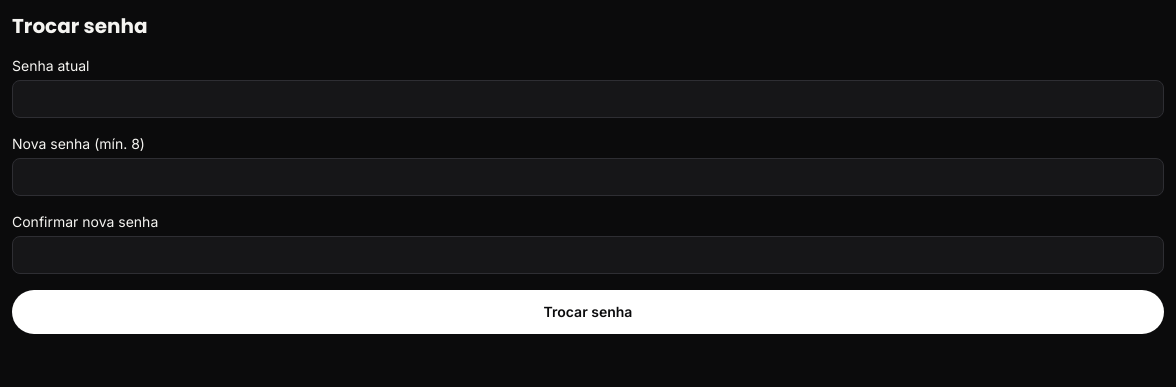
ChangePasswordForm › sucesso mostra confirmação
The image size is (1176, 387).
Type "senha12345" into the password field labelled "Senha atual" at (588, 99), box [12, 80, 1164, 118]
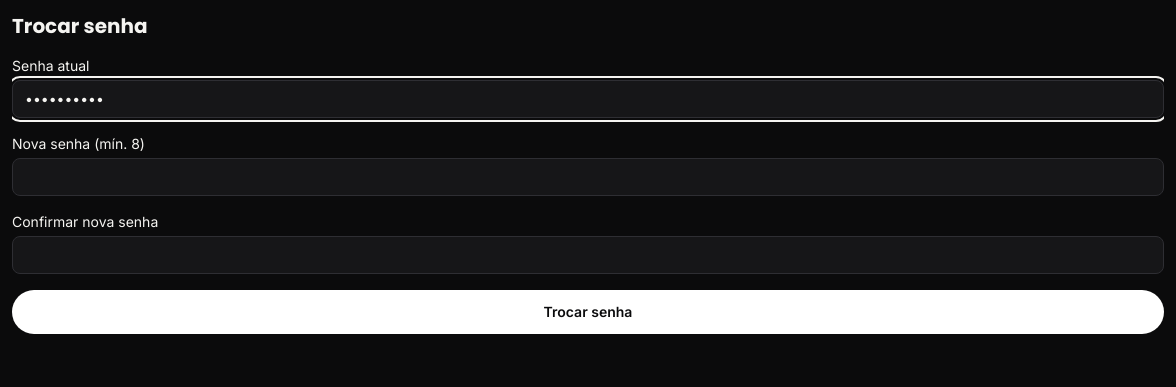
Type "nova-senha-456" into the password field labelled "Nova senha (mín. 8)" at (588, 177), box [12, 158, 1164, 196]
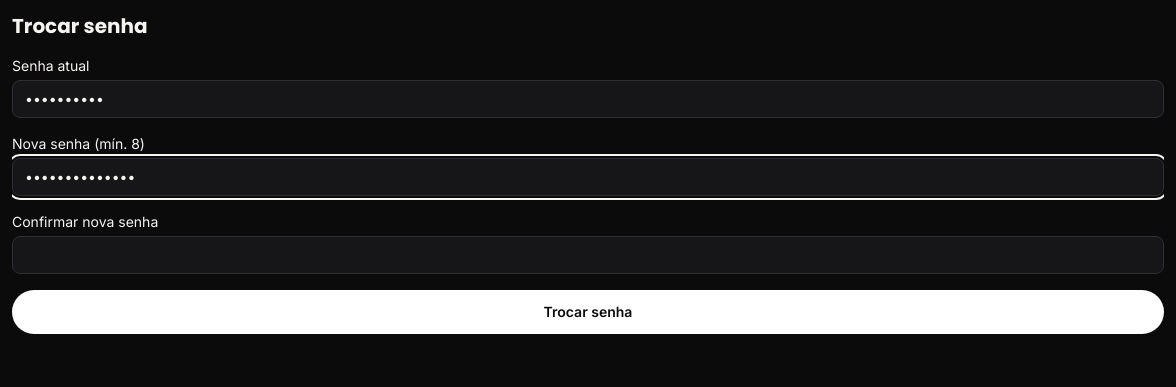
Type "nova-senha-456" into the password field labelled "Confirmar nova senha" at (588, 255), box [12, 236, 1164, 274]
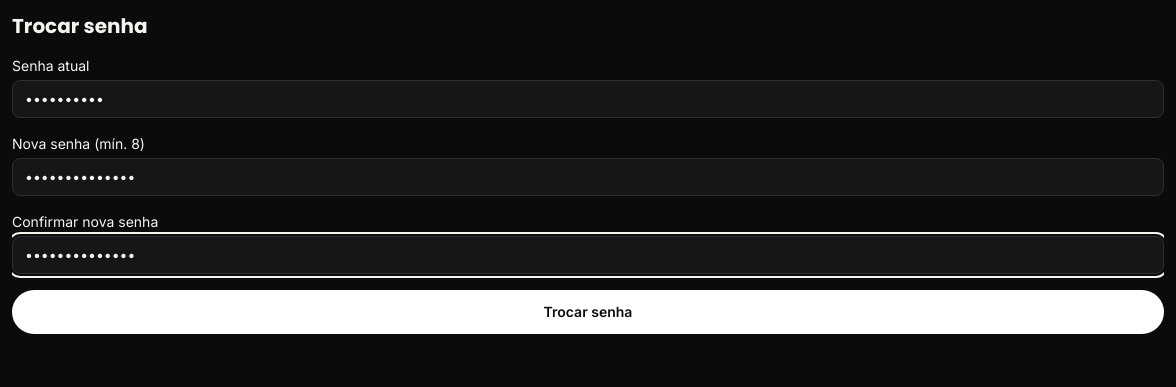
Click the button "Trocar senha" at (588, 312), box [12, 290, 1164, 334]
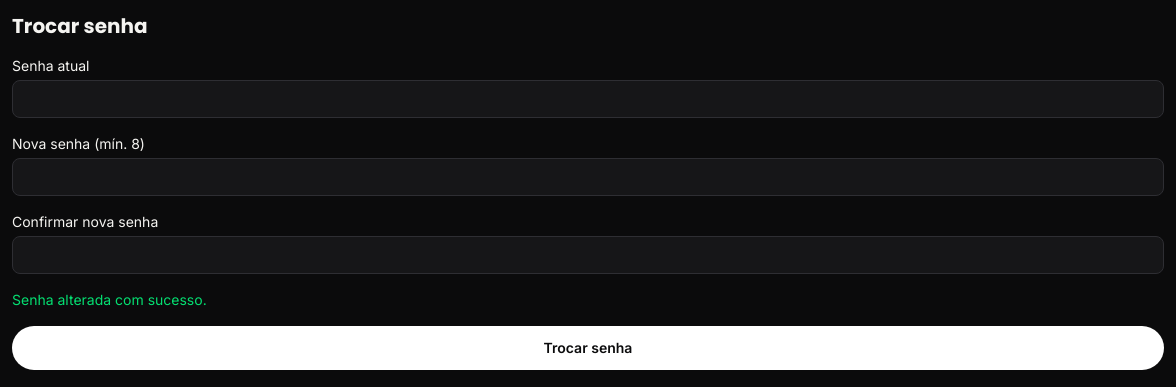
Expected: the message shows "alterada com sucesso", [12, 291, 207, 308]
